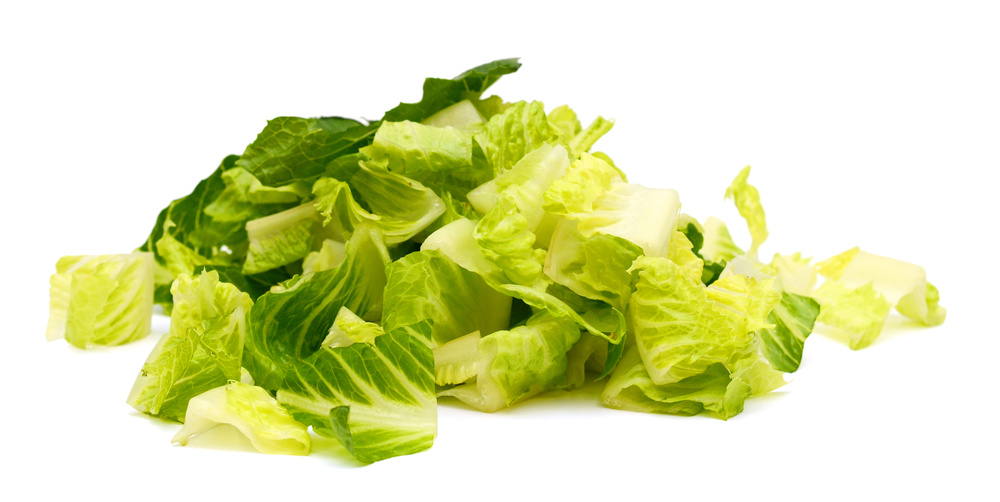chopped lettuce: (76, 107, 941, 427)
